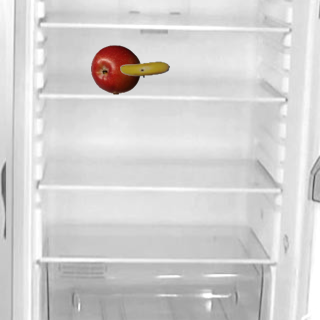Apple Braeburn: (90, 44, 140, 94)
Banana: (119, 44, 169, 94)
